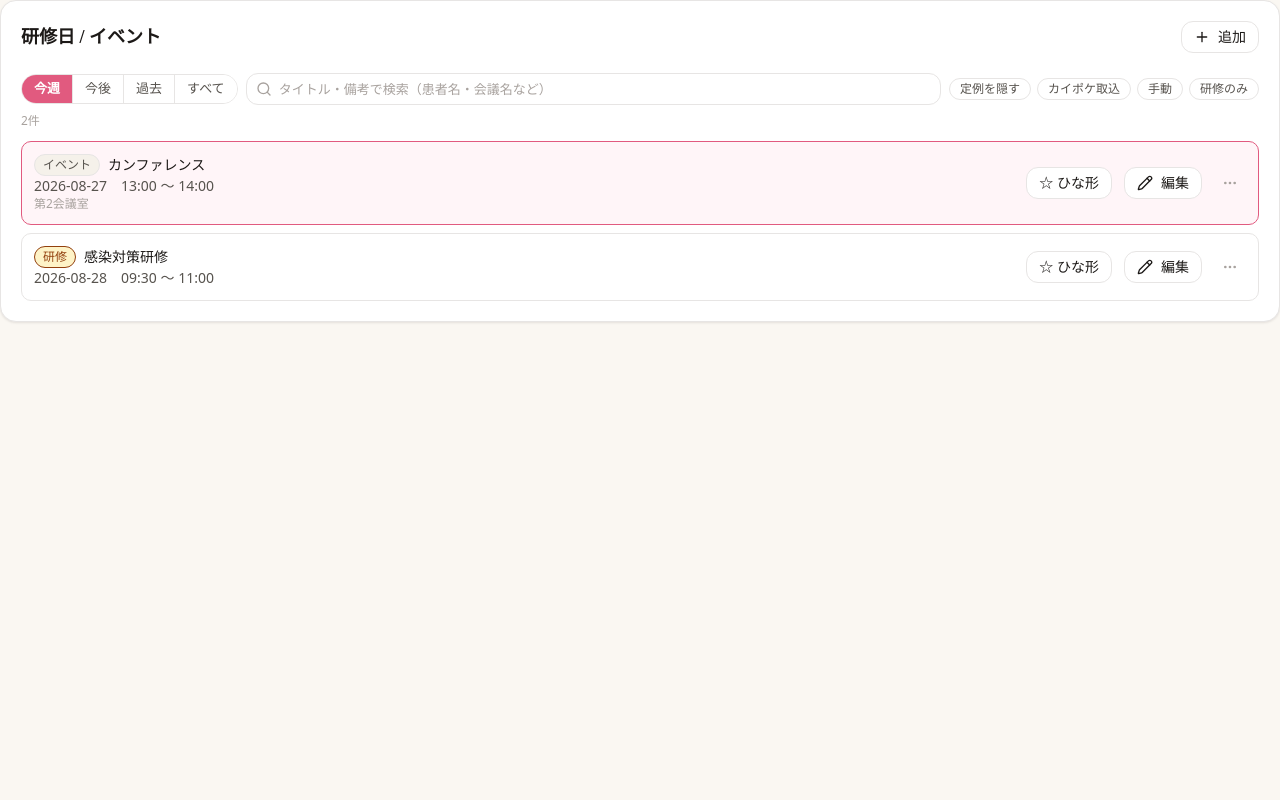
Test case: EventsCard — 既定タブ / ☆ ひな形 / ⋯ (PO 2026-08-25) › 3. 「⋯」メニューには 📌 毎週固定にする… だけが残る
The width and height of the screenshot is (1280, 800).
Step 1. Click the button with test id "event-row-menu-ev-1" → (1230,183), box [1214,167,1246,199]
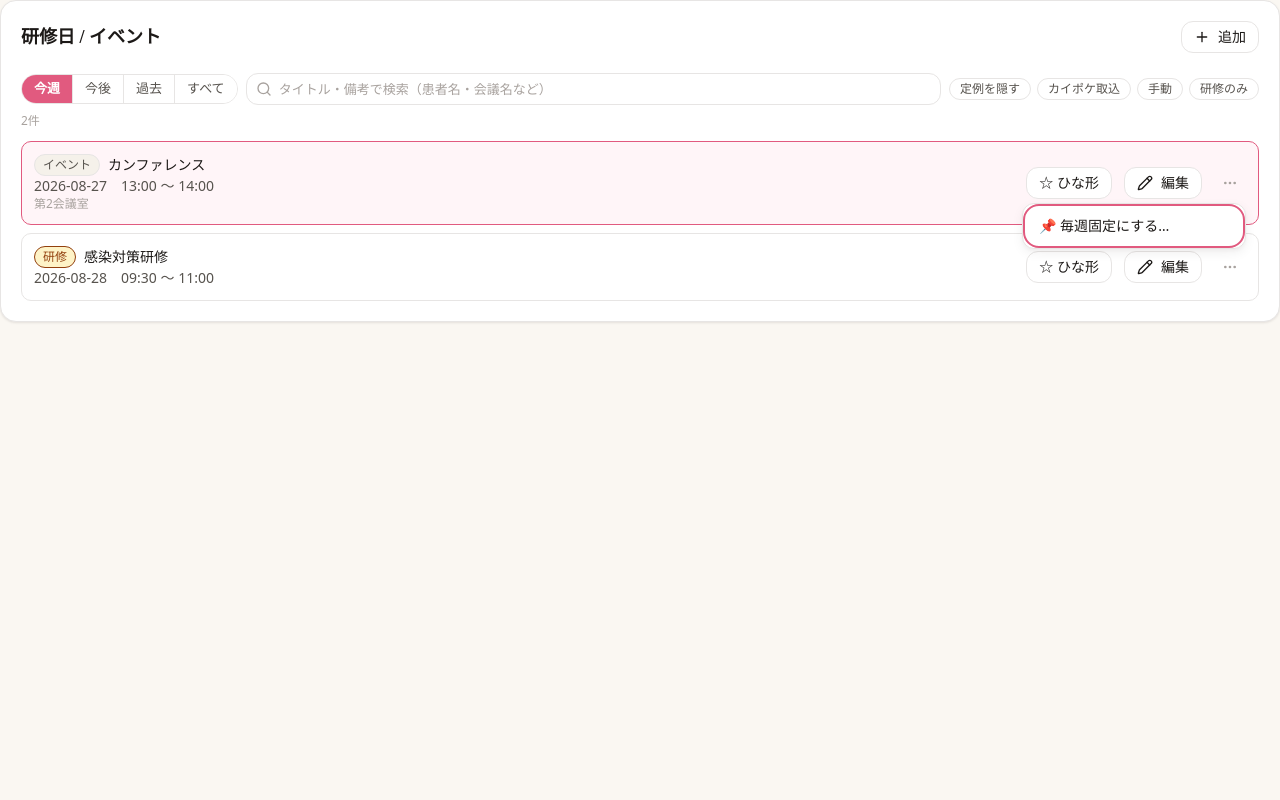
Expected: the button with test id "event-row-save-template-ev-1" reads "☆ ひな形", [1026,167,1112,199]
Expected: the button with test id "event-row-pin-ev-1" shows "📌 毎週固定にする", [1027,208,1241,244]
